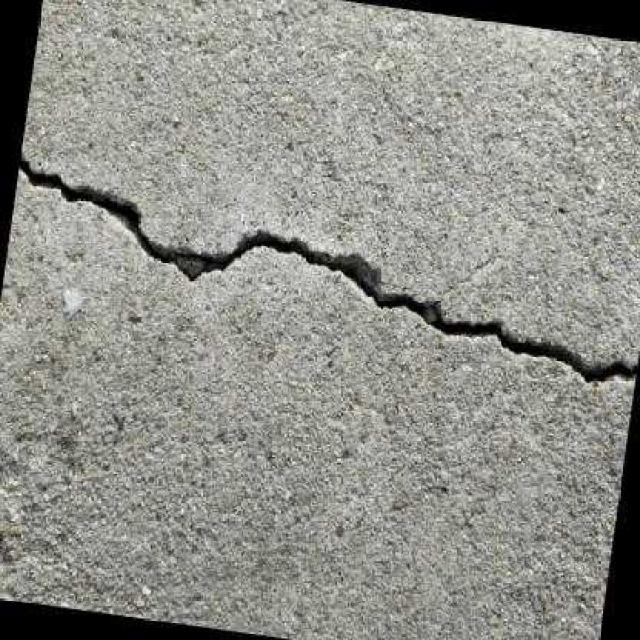D00: (17, 147, 638, 390)
